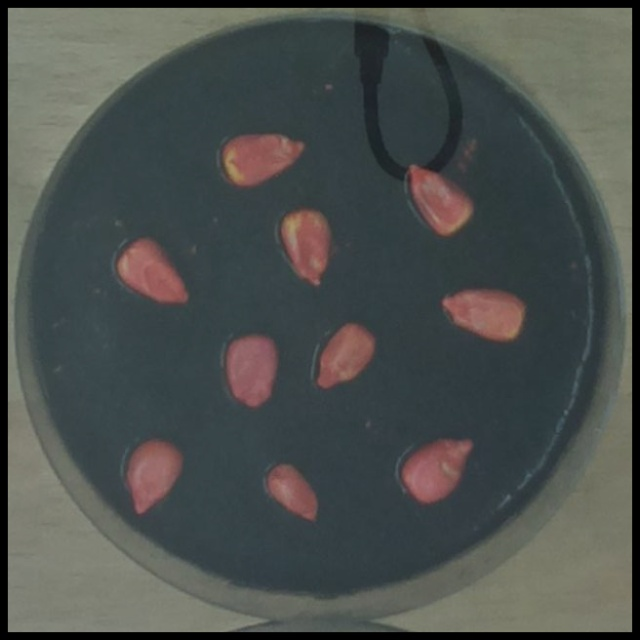Zea mays: (108, 228, 197, 313), (211, 123, 313, 195), (399, 156, 482, 244), (394, 428, 480, 510), (434, 280, 533, 348), (121, 432, 191, 522), (273, 200, 339, 291), (308, 314, 382, 395), (219, 324, 282, 412), (260, 456, 326, 527)
